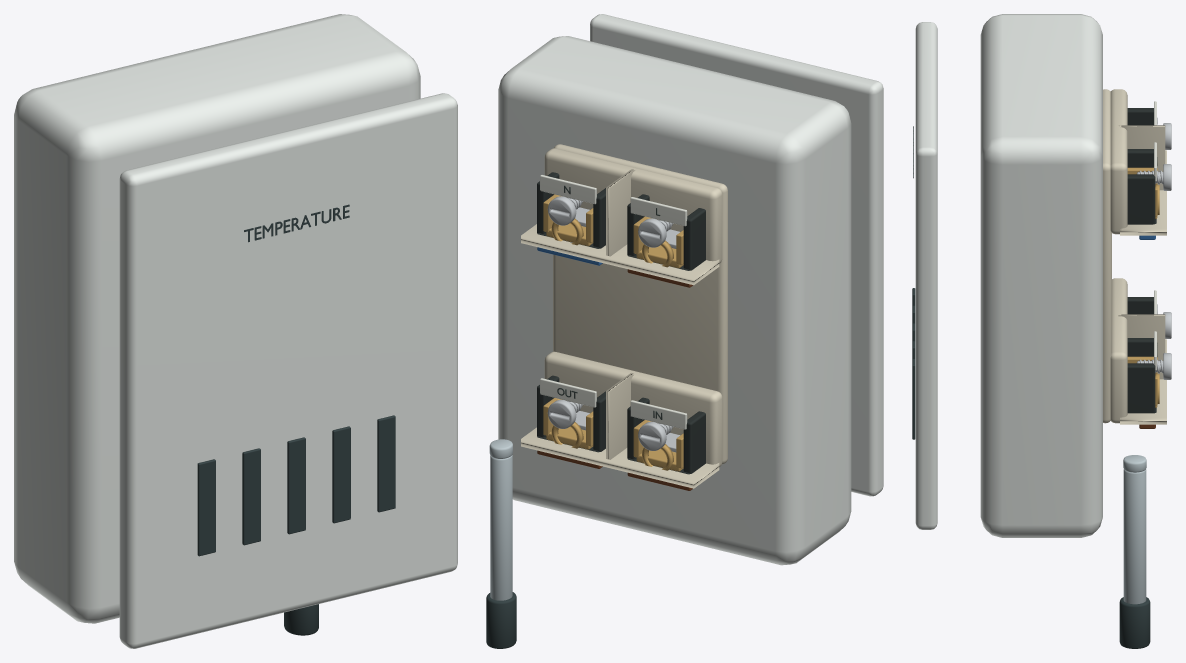
Rendered from sensor_mode_temperature.glb.
3 renders of one model, left to right at view 1: azimuth 30°, elevation 25°; view 2: azimuth 150°, elevation 25°; view 3: azimuth 270°, elevation 25°, orthographic. The views are drawn at different scales.
Visible parts, largest first — view 1: Temperature transmitter fascia, Rounded sensor mounting base, part:cover · Machinery thermoplastic, Remote probe gland; view 2: Rounded sensor mounting base, part:terminals · Original 5a609f27, Temperature transmitter fascia, part:sensing · Machined steel, detail:terminal-clamp:IN · Detail moulded engineering polyme, detail:terminal-clamp:L · Detail moulded engineering polymer, Remote probe gland, detail:terminal-clamp:L · Detail machined brass, detail:terminal-clamp:N · Detail machined brass, detail:terminal-clamp:IN · Detail machined brass, detail:terminal-clamp:OUT · Detail machined brass, detail:terminal-clamp:OUT · Detail moulded engineering polym (+9 smaller); view 3: Rounded sensor mounting base, Temperature transmitter fascia, part:terminals · Original 5a609f27, part:sensing · Machined steel, detail:terminal-clamp:N · Detail moulded engineering polymer, detail:terminal-clamp:OUT · Detail moulded engineering polym, Remote probe gland, part:cover · Machinery thermoplastic, detail:terminal-clamp:IN · Detail moulded engineering polyme, detail:terminal-clamp:L · Detail moulded engineering polymer, detail:terminal-clamp:N · Detail zinc plated fixing, detail:terminal-clamp:OUT · Detail zinc plated fixing.
Boxes of the visible parts, x1,y1,x2,y2 form: Temperature transmitter fascia: [119, 93, 457, 648]; Rounded sensor mounting base: [14, 14, 420, 623]; part:cover · Machinery thermoplastic: [197, 204, 395, 556]; Remote probe gland: [284, 604, 318, 635]; Rounded sensor mounting base: [498, 36, 851, 565]; part:terminals · Original 5a609f27: [521, 144, 727, 488]; Temperature transmitter fascia: [590, 14, 883, 496]; part:sensing · Machined steel: [489, 439, 512, 600]; detail:terminal-clamp:IN · Detail moulded engineering polyme: [627, 397, 705, 474]; detail:terminal-clamp:L · Detail moulded engineering polymer: [627, 194, 705, 270]; Remote probe gland: [486, 592, 516, 648]; detail:terminal-clamp:L · Detail machined brass: [633, 216, 683, 268]; detail:terminal-clamp:N · Detail machined brass: [543, 194, 593, 246]; detail:terminal-clamp:IN · Detail machined brass: [633, 420, 683, 471]; detail:terminal-clamp:OUT · Detail machined brass: [543, 398, 593, 449]; detail:terminal-clamp:OUT · Detail moulded engineering polym: [537, 375, 605, 452]; Rounded sensor mounting base: [980, 14, 1102, 537]; Temperature transmitter fascia: [915, 22, 937, 529]; part:terminals · Original 5a609f27: [1103, 89, 1166, 424]; part:sensing · Machined steel: [1123, 455, 1146, 604]; detail:terminal-clamp:N · Detail moulded engineering polymer: [1127, 149, 1156, 224]; detail:terminal-clamp:OUT · Detail moulded engineering polym: [1127, 338, 1156, 413]; Remote probe gland: [1119, 597, 1150, 648]; part:cover · Machinery thermoplastic: [912, 126, 915, 439]; detail:terminal-clamp:IN · Detail moulded engineering polyme: [1127, 297, 1153, 314]; detail:terminal-clamp:L · Detail moulded engineering polymer: [1127, 108, 1153, 125]; detail:terminal-clamp:N · Detail zinc plated fixing: [1137, 164, 1171, 190]; detail:terminal-clamp:OUT · Detail zinc plated fixing: [1137, 353, 1171, 379].
Size of the model in its own units: 0.6262 by 1.08 by 0.4975.
